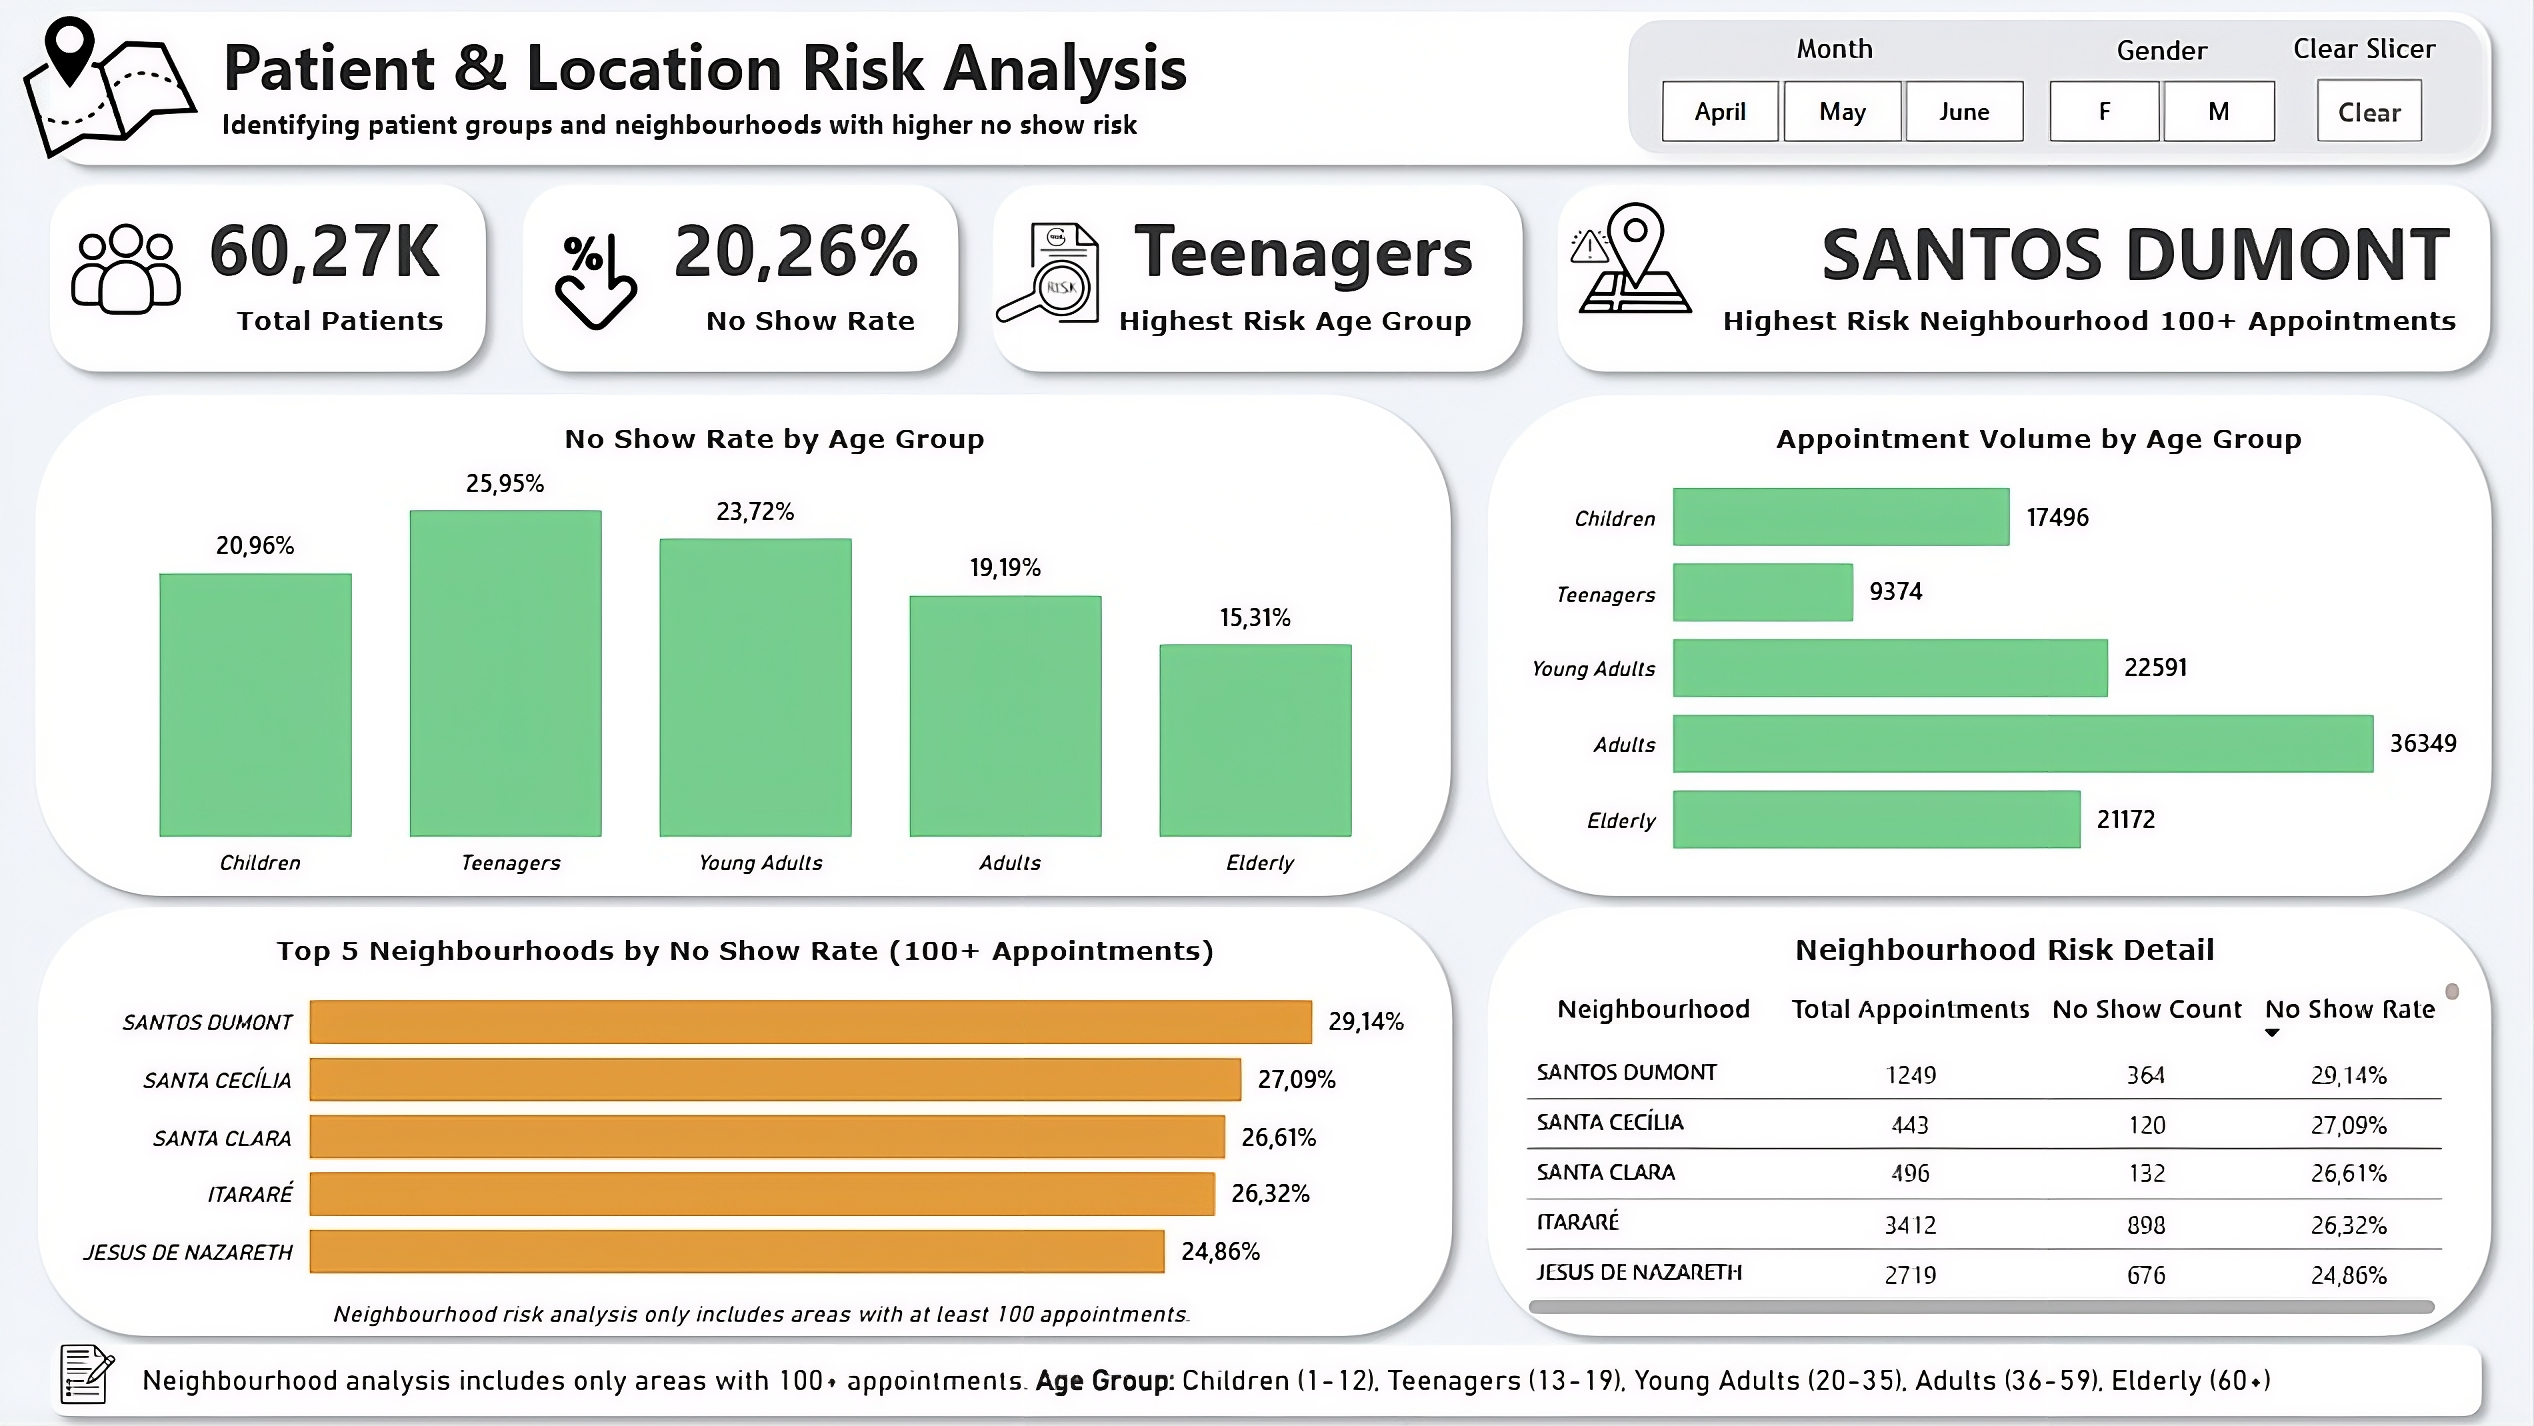

The dashboard page shown, as its layout file describes it:
{"tool":"powerbi","page":{"name":"Patient & Location Risk Analysis","canvas":[1280,720],"ordinal":2},"visuals":[{"type":"shape","title":"Shape chart 1","box":[12.9,191.4,725.7,268.6],"z":0},{"type":"shape","title":"Shape chart 3","box":[13.5,447.6,725.1,232.3],"z":1000},{"type":"shape","title":"Shape card","box":[20,85.7,235.7,111.4],"z":2000},{"type":"shape","title":"Shape chart 4","box":[738.6,447.6,519.7,232.3],"z":3000},{"type":"shape","title":"Shape chart 2","box":[738.6,191.4,520,268.6],"z":4000},{"type":"shape","title":"Shape card3","box":[491.4,85.7,282.9,111.4],"z":5000},{"type":"shape","title":"Shape card 4","box":[774.3,85.7,484.3,111.4],"z":6000},{"type":"shape","title":"Shape card2","box":[255.7,85.7,235.7,111.4],"z":7000},{"type":"shape","title":"Shape title","box":[20,0,1238.6,94.3],"z":8000},{"type":"cardVisual","title":"Total Appointments","fields":{"Data":["Count(healthcare_appointment healthcare_noshows_clean.PatientId)"]},"box":[88.6,94.3,152.9,62.9],"z":9000},{"type":"shape","title":"slicer","box":[808.6,4.3,445.7,85.7],"z":10000},{"type":"cardVisual","fields":{"Data":["Min(healthcare_appointment healthcare_noshows_clean.Age (groups))"]},"box":[544.3,92.9,214.3,64.3],"z":11000},{"type":"cardVisual","fields":{"Data":["healthcare_appointment healthcare_noshows_clean.Highest Risk Neighbourhood Rate"]},"box":[892.9,101.4,354.3,50],"z":12000},{"type":"cardVisual","fields":{"Data":["healthcare_appointment healthcare_noshows_clean.No Show Rate"]},"box":[311.4,101.4,170,48.6],"z":13000},{"type":"columnChart","title":"No-Show Rate by Age Group","fields":{"Y":["healthcare_appointment healthcare_noshows_clean.No-Show Rate"],"Category":["healthcare_appointment healthcare_noshows_clean.Age (groups)"]},"box":[28.6,218.6,710,230],"z":14000},{"type":"barChart","title":"Top 5 Neighbourhoods by No-Show Rate 100+ Appointments","fields":{"Category":["healthcare_appointment healthcare_noshows_clean.Neighbourhood"],"Y":["healthcare_appointment healthcare_noshows_clean.No-Show Rate"]},"box":[39.1,479.4,673.8,178.5],"z":15000},{"type":"barChart","title":"Appointment Volume by Age Group","fields":{"Category":["healthcare_appointment healthcare_noshows_clean.Age (groups)"],"Y":["CountNonNull(healthcare_appointment healthcare_noshows_clean.AppointmentID)"]},"box":[762.9,218.6,475.7,230],"z":16000},{"type":"textbox","box":[110,8.8,501.2,77.5],"z":17000},{"type":"pivotTable","fields":{"Rows":["healthcare_appointment healthcare_noshows_clean.Neighbourhood"],"Values":["CountNonNull(healthcare_appointment healthcare_noshows_clean.AppointmentID)","healthcare_appointment healthcare_noshows_clean.No Show Count","healthcare_appointment healthcare_noshows_clean.No-Show Rate"]},"box":[763,489.1,476.9,177.3],"z":18000},{"type":"textbox","box":[114.3,148.6,117.1,32.9],"z":19000},{"type":"shape","title":"Shape title","box":[19.6,666.4,1233.8,53.8],"z":20000},{"type":"textbox","box":[344.3,148.6,122.9,32.9],"z":21000},{"type":"textbox","box":[536.2,148.8,208.8,32.5],"z":22000},{"type":"textbox","box":[837.1,148.6,400,32.9],"z":23000},{"type":"textbox","box":[248.6,207.1,252.9,31.4],"z":24000},{"type":"textbox","box":[837.1,207.1,322.9,31.4],"z":25000},{"type":"textbox","box":[127.2,463.5,489.1,31.8],"z":26000},{"type":"image","box":[0,0,113.8,93.8],"z":27000},{"type":"image","box":[28.8,103.8,77.5,77.5],"z":28000},{"type":"image","box":[266.2,110,66.2,61.2],"z":29000},{"type":"image","box":[496.2,82.5,68.8,111.2],"z":30000},{"type":"image","box":[783.8,81.2,73.8,103.8],"z":31000},{"type":"textbox","box":[763,463.5,487.9,31.8],"z":32000},{"type":"textbox","box":[139.4,644.4,489.1,34.2],"z":33000},{"type":"slicer","fields":{"Values":["healthcare_appointment healthcare_noshows_clean.Gender"]},"box":[1002.9,35.7,162.9,44.3],"z":34000},{"type":"textbox","title":"Text Totalapointment","box":[1040.7,13.6,87.9,36.4],"z":35000},{"type":"textbox","title":"Text Totalapointment","box":[878.6,12.9,85.7,38.6],"z":36000},{"type":"slicer","fields":{"Values":["healthcare_appointment healthcare_noshows_clean.appointmentday.Variation.Date Hierarchy.Month"]},"box":[808.7,36.3,231.1,44.3],"z":37000},{"type":"actionButton","box":[1162.9,42.9,52.9,31.4],"z":38000},{"type":"textbox","title":"Text Totalapointment","box":[1142.1,12.9,87.9,36.4],"z":39000},{"type":"textbox","box":[69.7,678.7,1160.5,34.2],"z":40000},{"type":"image","box":[19.6,670.1,57.5,41.6],"z":41000}]}

Visuals, with their boxes in screenshot pixels (x1, y1, x2, y2), scaled from the page's 1280x720 canvas onto the 2534x1426 screenshot:
"Shape chart 1" shape: [left=26, top=379, right=1462, bottom=911]
"Shape chart 3" shape: [left=27, top=886, right=1462, bottom=1347]
"Shape card" shape: [left=40, top=170, right=506, bottom=390]
"Shape chart 4" shape: [left=1462, top=886, right=2491, bottom=1347]
"Shape chart 2" shape: [left=1462, top=379, right=2492, bottom=911]
"Shape card3" shape: [left=973, top=170, right=1533, bottom=390]
"Shape card 4" shape: [left=1533, top=170, right=2492, bottom=390]
"Shape card2" shape: [left=506, top=170, right=973, bottom=390]
"Shape title" shape: [left=40, top=0, right=2492, bottom=187]
"Total Appointments" cardVisual: [left=175, top=187, right=478, bottom=311]
"slicer" shape: [left=1601, top=9, right=2483, bottom=178]
cardVisual - Min(healthcare_appointment healthcare_noshows_clean.Age (groups)): [left=1078, top=184, right=1502, bottom=311]
cardVisual - healthcare_appointment healthcare_noshows_clean.Highest Risk Neighbourhood Rate: [left=1768, top=201, right=2469, bottom=300]
cardVisual - healthcare_appointment healthcare_noshows_clean.No Show Rate: [left=616, top=201, right=953, bottom=297]
"No-Show Rate by Age Group" columnChart: [left=57, top=433, right=1462, bottom=888]
"Top 5 Neighbourhoods by No-Show Rate 100+ Appointments" barChart: [left=77, top=949, right=1411, bottom=1303]
"Appointment Volume by Age Group" barChart: [left=1510, top=433, right=2452, bottom=888]
textbox: [left=218, top=17, right=1210, bottom=171]
pivotTable - healthcare_appointment healthcare_noshows_clean.Neighbourhood x CountNonNull(healthcare_appointment healthcare_noshows_clean.AppointmentID): [left=1511, top=969, right=2455, bottom=1320]
textbox: [left=226, top=294, right=458, bottom=359]
"Shape title" shape: [left=39, top=1320, right=2481, bottom=1425]
textbox: [left=682, top=294, right=925, bottom=359]
textbox: [left=1062, top=295, right=1475, bottom=359]
textbox: [left=1657, top=294, right=2449, bottom=359]
textbox: [left=492, top=410, right=993, bottom=472]
textbox: [left=1657, top=410, right=2296, bottom=472]
textbox: [left=252, top=918, right=1220, bottom=981]
image: [left=0, top=0, right=225, bottom=186]
image: [left=57, top=206, right=210, bottom=359]
image: [left=527, top=218, right=658, bottom=339]
image: [left=982, top=163, right=1119, bottom=384]
image: [left=1552, top=161, right=1698, bottom=366]
textbox: [left=1511, top=918, right=2476, bottom=981]
textbox: [left=276, top=1276, right=1244, bottom=1344]
slicer - healthcare_appointment healthcare_noshows_clean.Gender: [left=1985, top=71, right=2308, bottom=158]
"Text Totalapointment" textbox: [left=2060, top=27, right=2234, bottom=99]
"Text Totalapointment" textbox: [left=1739, top=26, right=1909, bottom=102]
slicer - healthcare_appointment healthcare_noshows_clean.appointmentday.Variation.Date Hierarchy.Month: [left=1601, top=72, right=2058, bottom=160]
actionButton: [left=2302, top=85, right=2407, bottom=147]
"Text Totalapointment" textbox: [left=2261, top=26, right=2435, bottom=98]
textbox: [left=138, top=1344, right=2435, bottom=1412]
image: [left=39, top=1327, right=153, bottom=1410]
